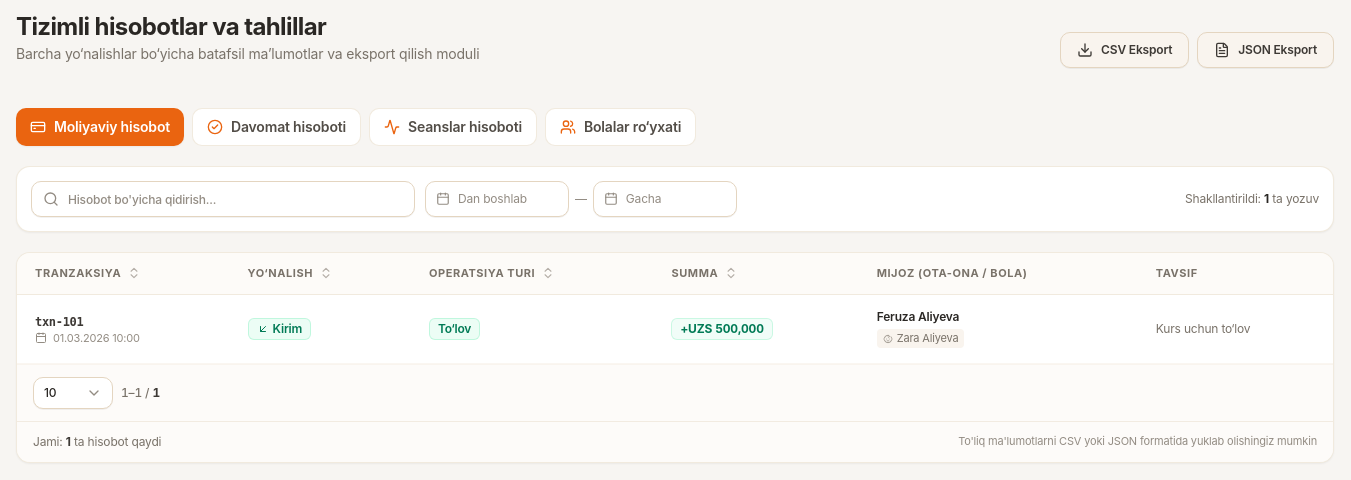
it: ReportsPage Component › switches to children report tab correctly
Click the button "Bolalar ro‘yxati": (621, 127) [545,108,696,146]
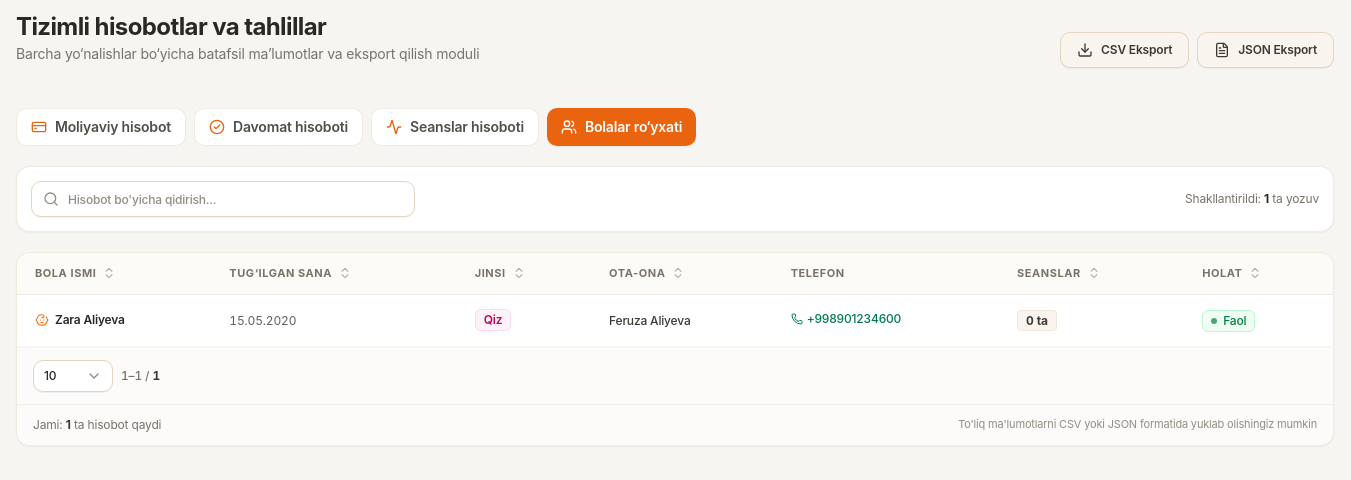
Check: the text "Zara Aliyeva" is shown, box [55,312,125,328]
Check: the text "+998901234600" is shown, box [807,311,901,327]
